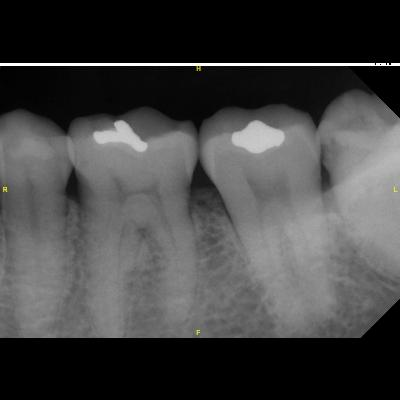tooth: (0, 107, 74, 337)
